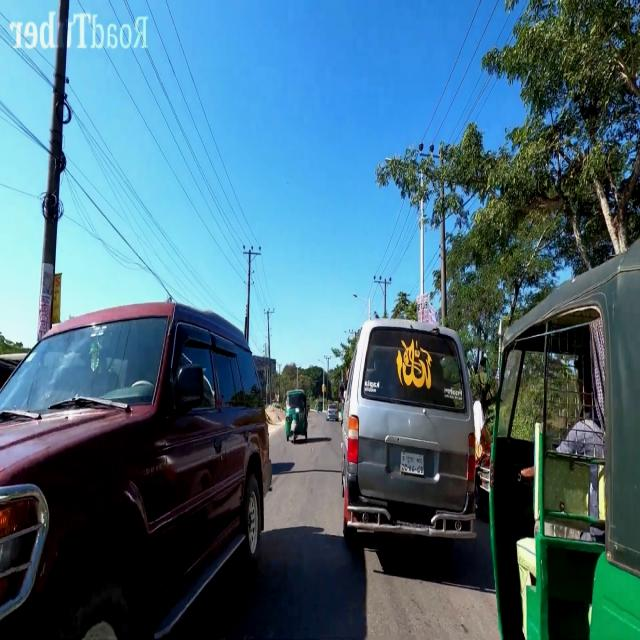maroon: (0, 301, 271, 639)
silver: (340, 320, 476, 546)
